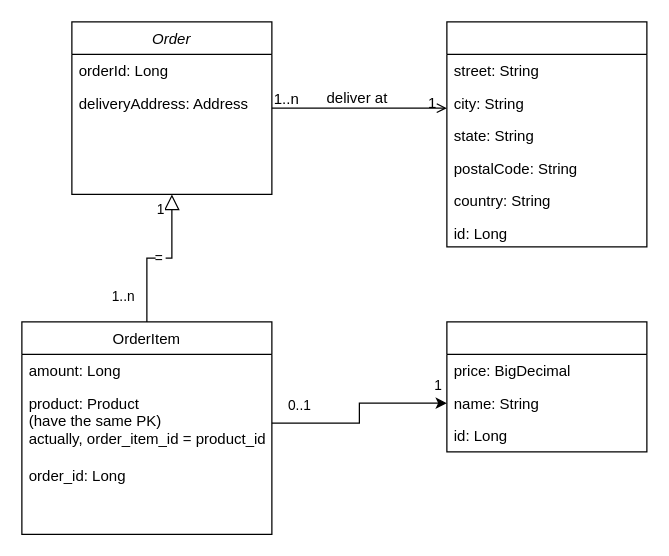
Image size: 669x556. Some labels were removed from this diagram. The box of each missing label's shape, as (x1, y1, x2, y2) in pixels:
Address: (446, 21, 647, 247)
Product: (446, 321, 647, 452)
